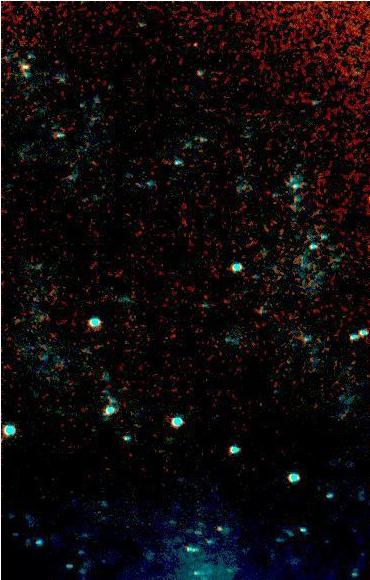star: (181, 24, 211, 54)
